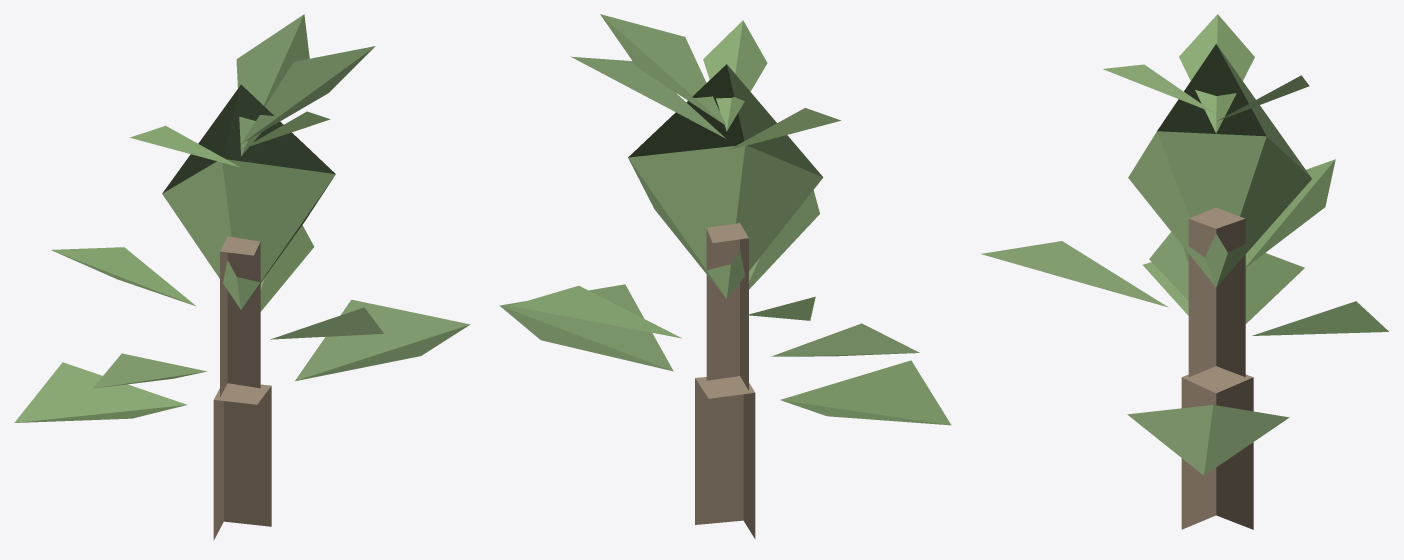
The model's file is shu.cha@seedling__spring.glb.
3 renders of one model, left to right at view 1: azimuth 30°, elevation 25°; view 2: azimuth 150°, elevation 25°; view 3: azimuth 270°, elevation 25°, orthographic. The views are drawn at different scales.
Visible parts, largest first — view 1: shu.cha@seedling__spring; view 2: shu.cha@seedling__spring; view 3: shu.cha@seedling__spring.
Part boxes in pixels (x1,y1,x2,y2): shu.cha@seedling__spring: (14,14,470,540); shu.cha@seedling__spring: (499,14,951,538); shu.cha@seedling__spring: (981,14,1388,529).
Bounding box in the file's own units: 0.2682 × 0.2662 × 0.1974.
